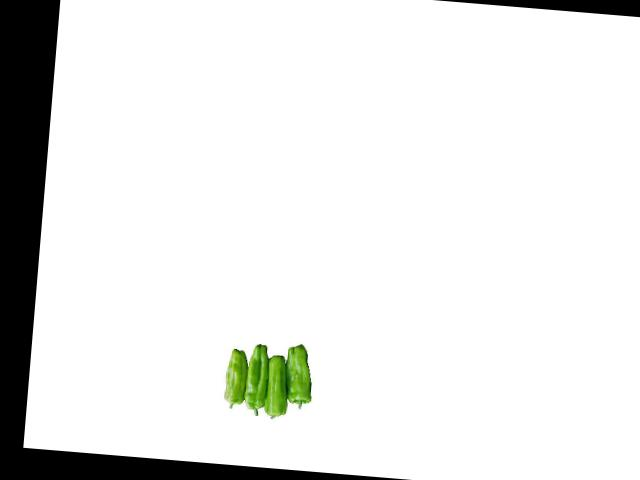bell_pepper: (282, 338, 315, 413)
